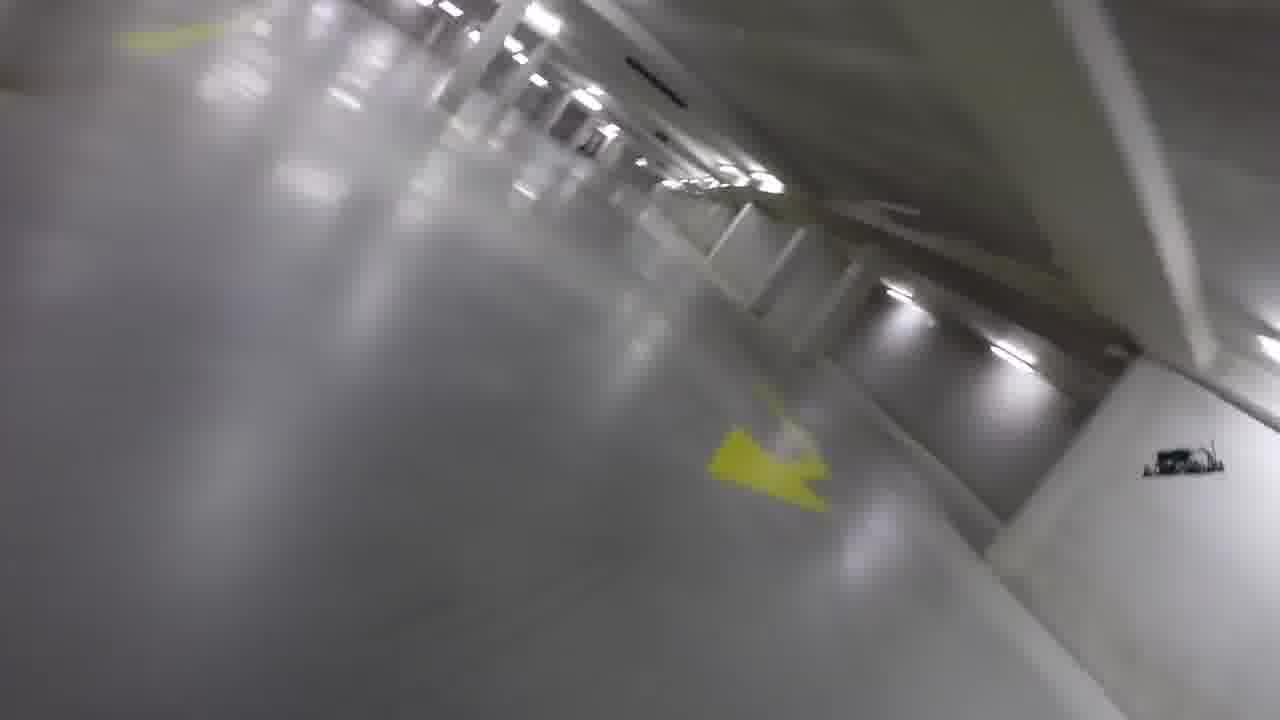drone: (1143, 437, 1228, 485)
